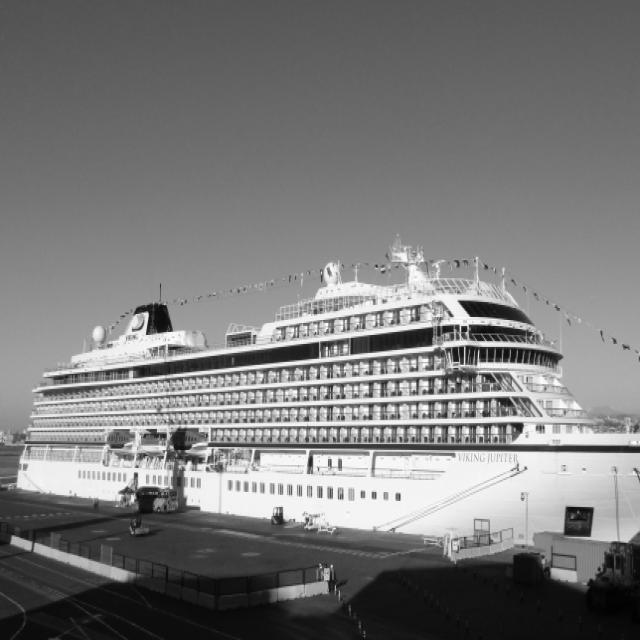cruises: (10, 236, 640, 562)
